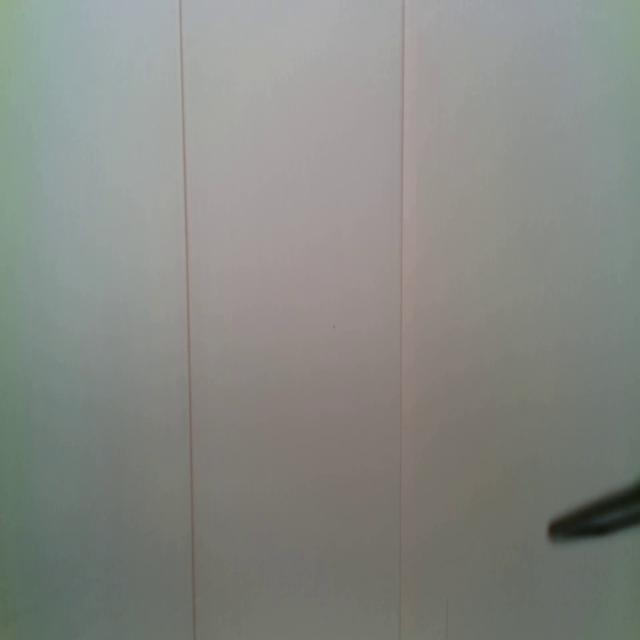crease: (178, 0, 197, 639), (397, 1, 408, 640), (443, 597, 450, 640)
hole: (333, 322, 337, 332)
